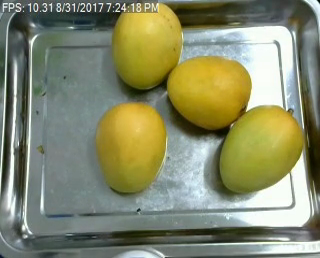Mango: (217, 105, 302, 190), (95, 103, 165, 193), (111, 1, 182, 88), (168, 57, 252, 129)
